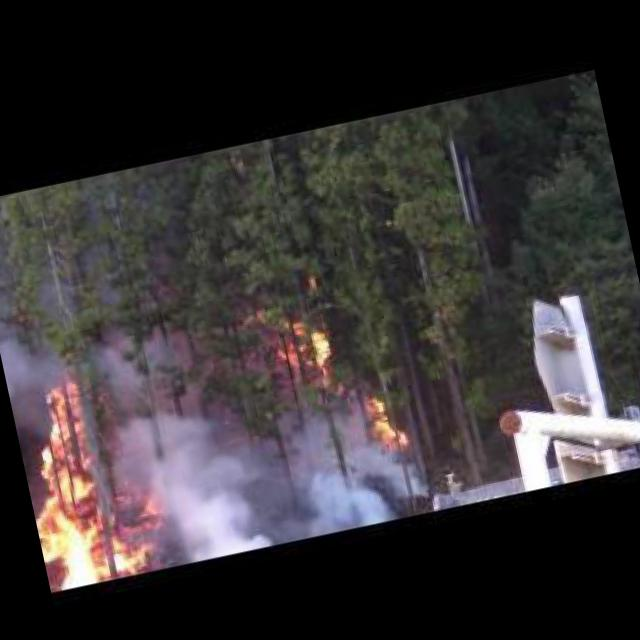fire: (7, 361, 170, 590), (269, 318, 331, 396), (361, 390, 406, 452)
